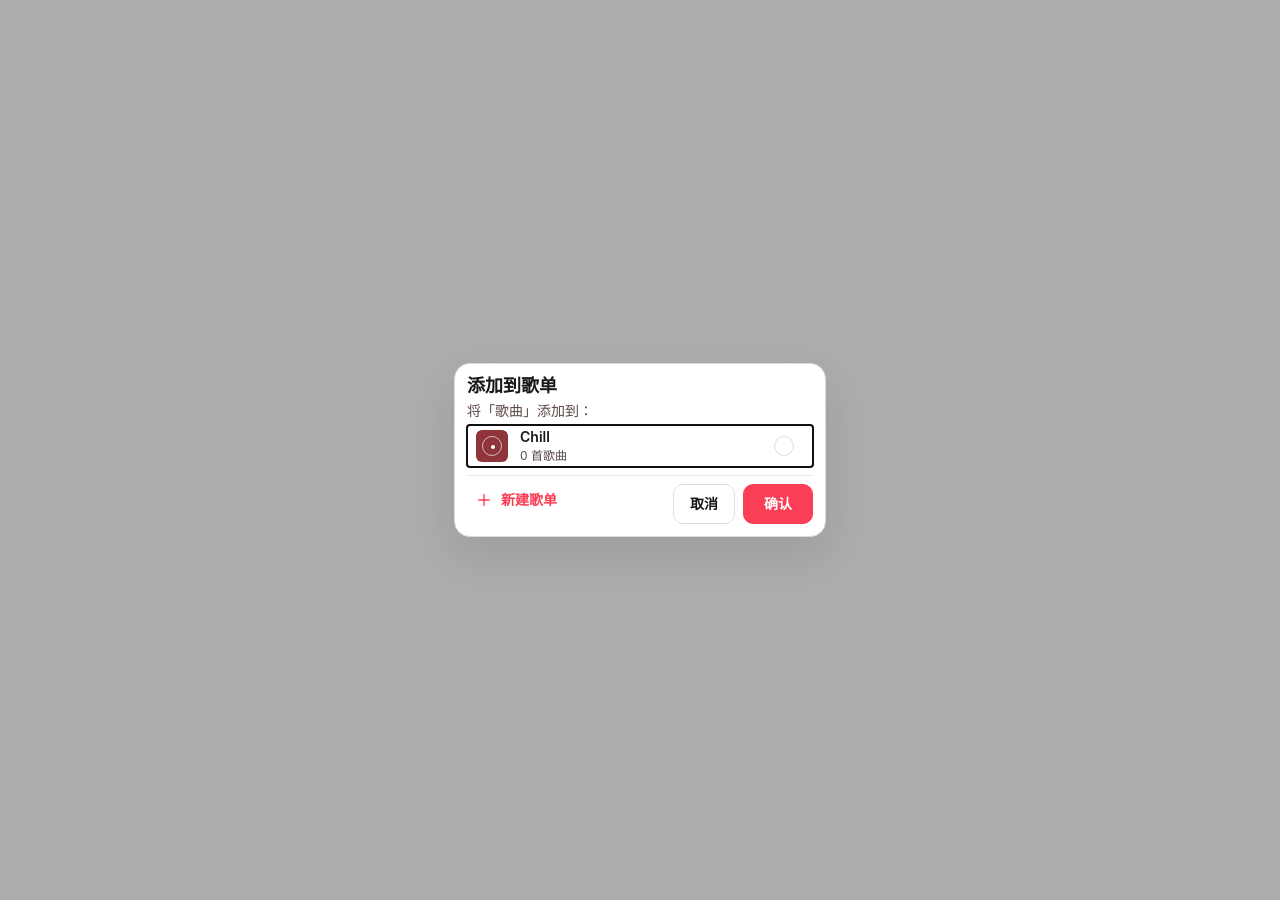
Test: AddToPlaylistDialog (task 10.9) › does not mutate and reports when no playlist is selected
Check: the option labelled "Chill 0 首歌曲" is shown, box left=467, top=425, right=803, bottom=467
Click the button "确认": coordinates (778, 504) left=743, top=484, right=813, bottom=524
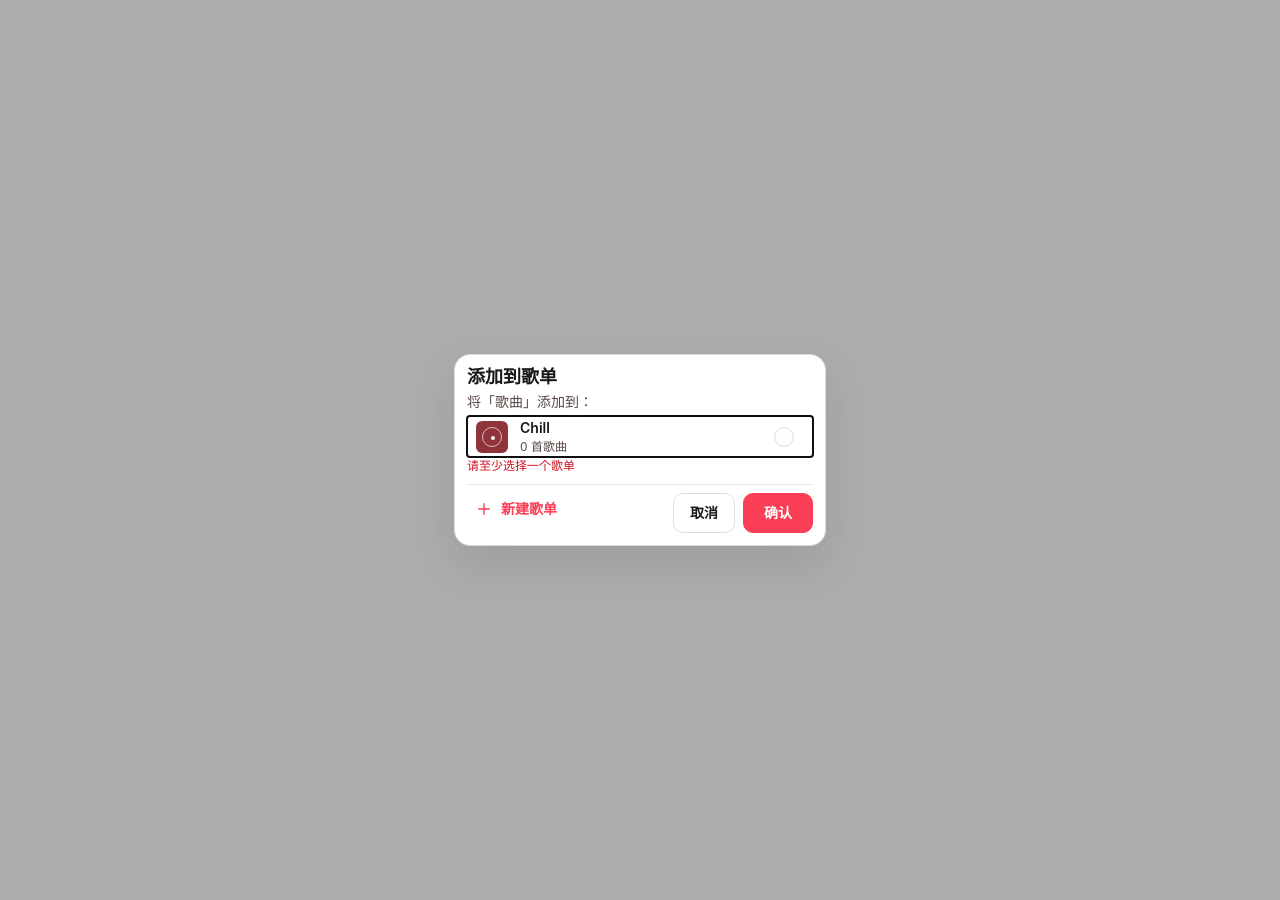
Check: the text "请至少选择一个歌单" is shown, box left=467, top=458, right=575, bottom=474
